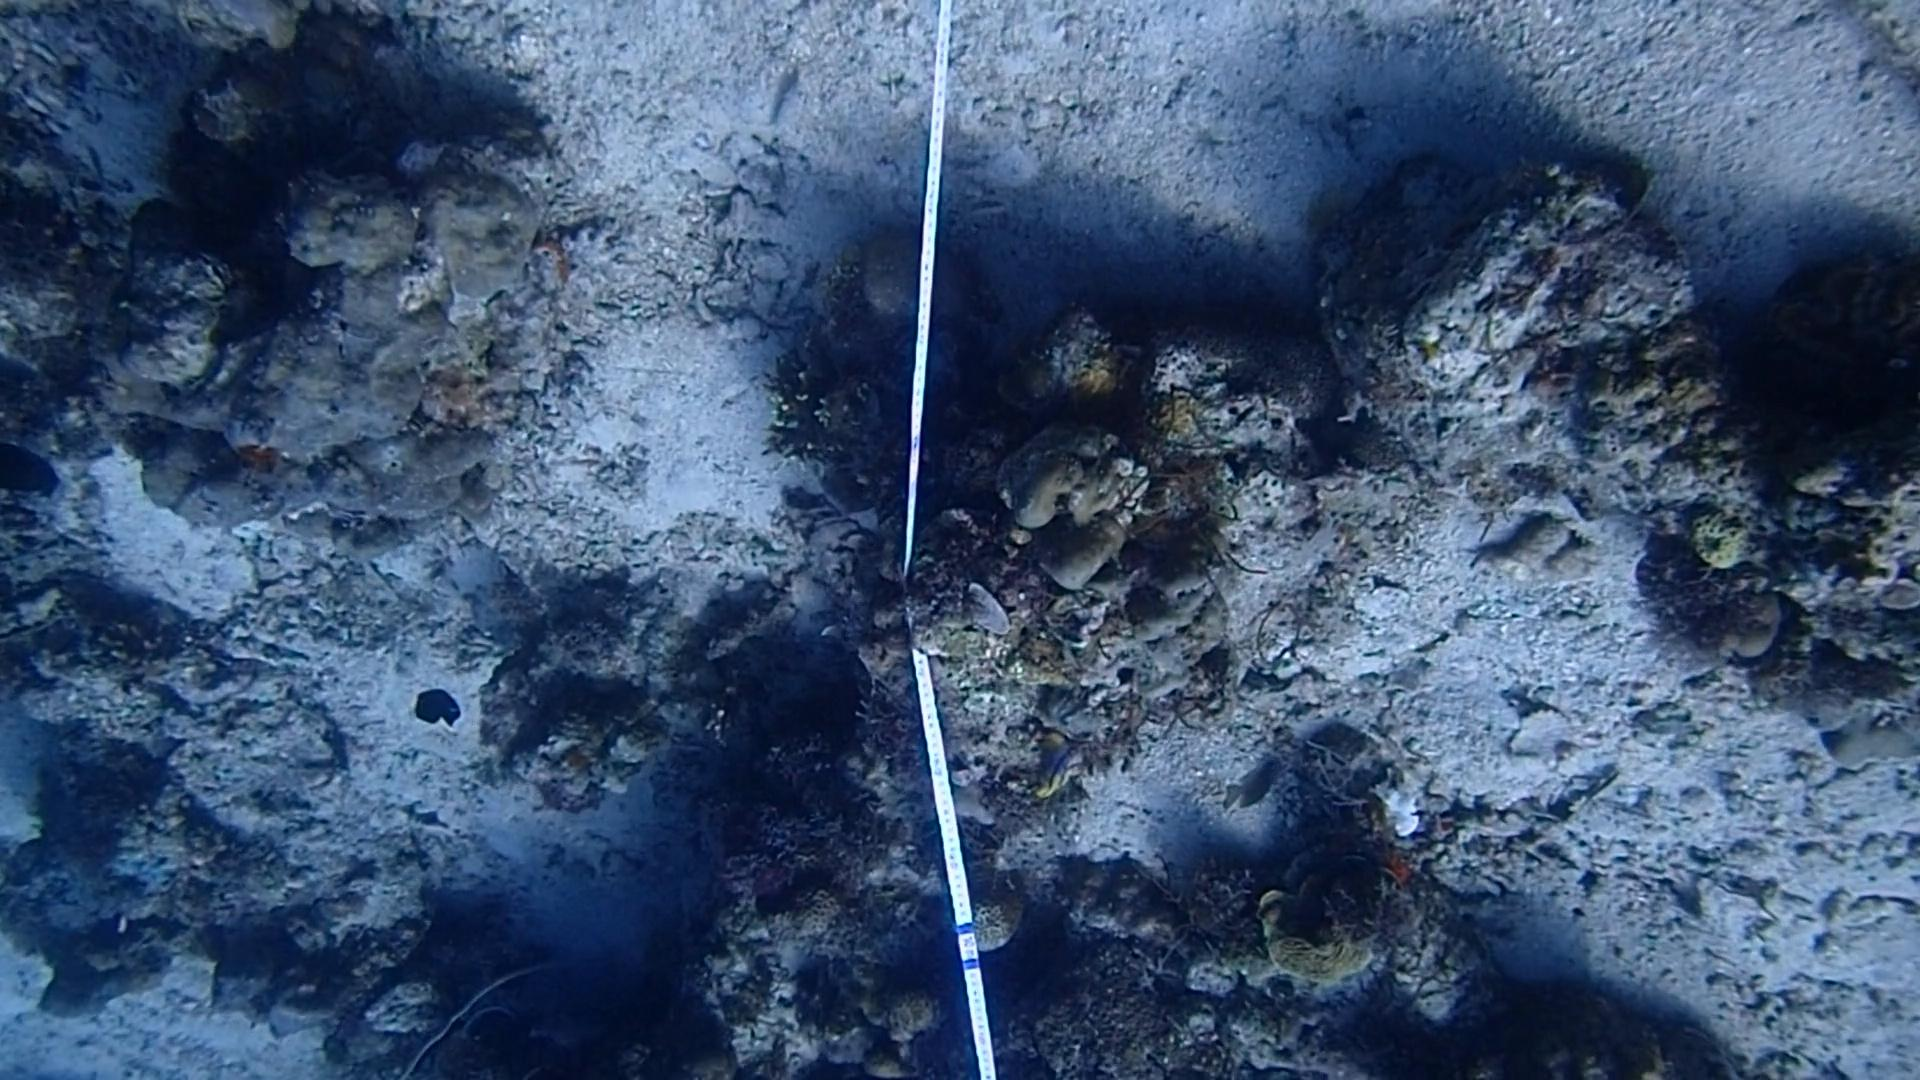Dark Fish: (0, 434, 58, 512), (402, 682, 469, 737)
Light Fish: (1224, 754, 1287, 819)
